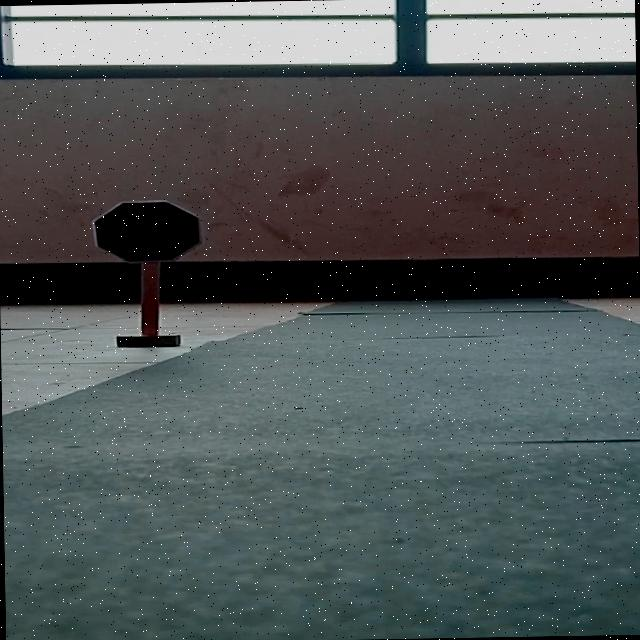Stop: (92, 200, 202, 264)
